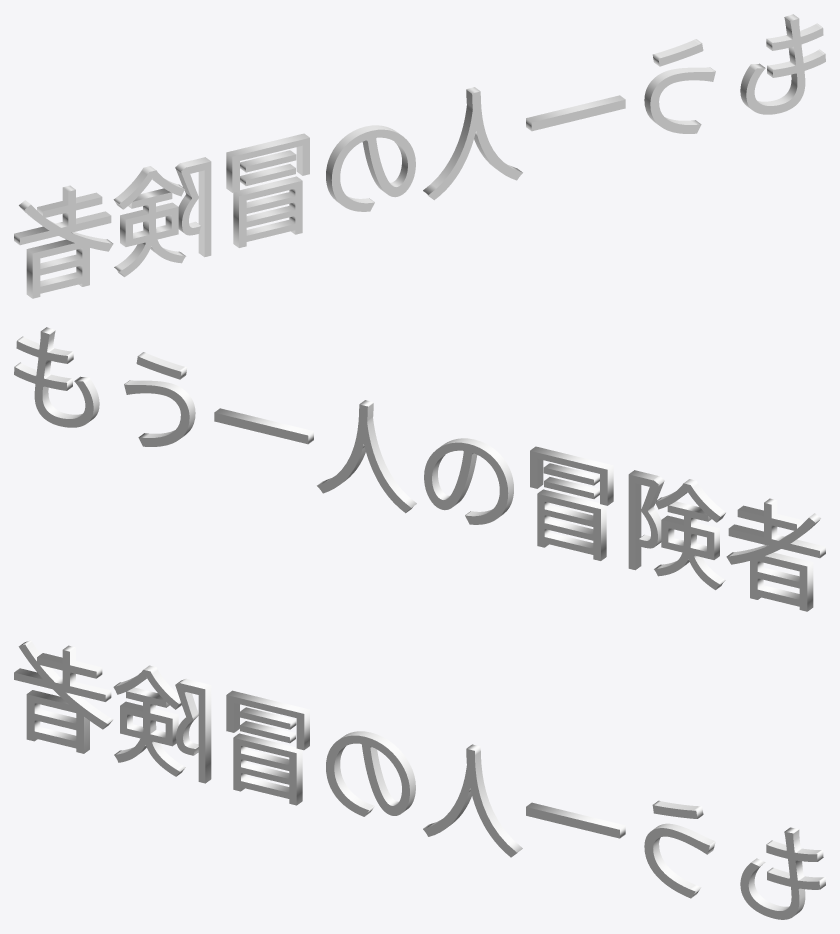
The model's file is Titel.obj.
3 views of the same model, one above another, from view 1: azimuth 30°, elevation 25°; view 2: azimuth 150°, elevation 25°; view 3: azimuth 330°, elevation 25° (orthographic).
Parts seen in each view (by area): view 1: テキスト; view 2: テキスト; view 3: テキスト.
Part boxes in pixels (left/top/right/bottom): テキスト: left=14, top=14, right=825, bottom=298; テキスト: left=14, top=327, right=825, bottom=611; テキスト: left=14, top=640, right=825, bottom=919.
Bounding box in the file's own units: 31.41 × 3.7 × 0.4.
